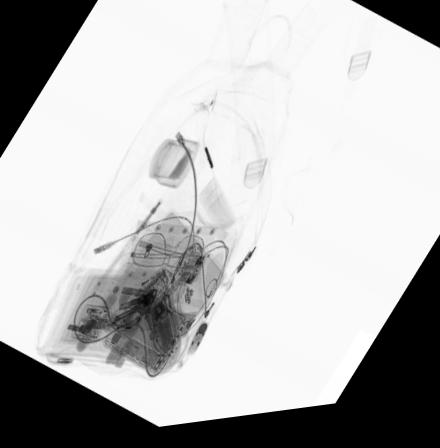Lighter: (137, 269, 166, 295)
